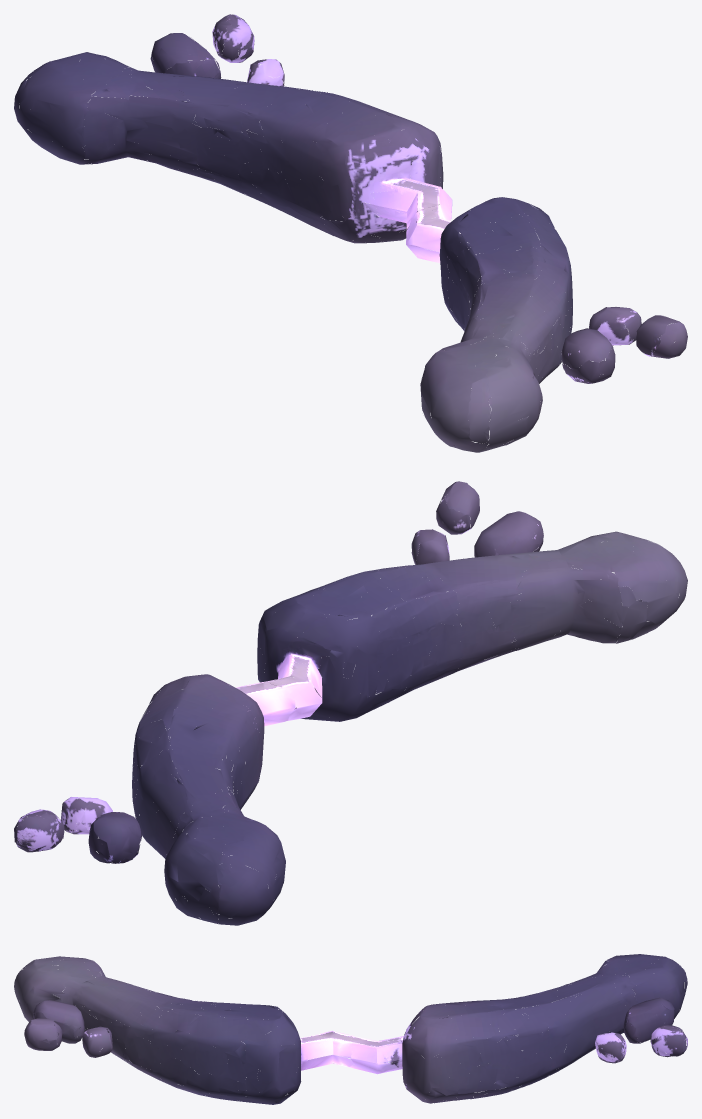
The model's file is Arm_rift_bow-UhdVYilX.glb.
3 views of the same model, one above another, from view 1: azimuth 30°, elevation 25°; view 2: azimuth 150°, elevation 25°; view 3: azimuth 270°, elevation 25° (orthographic). The views are drawn at different scales.
Parts seen in each view (by area): view 1: Arm_rift_bow; view 2: Arm_rift_bow; view 3: Arm_rift_bow.
Boxes of the visible parts, x1,y1,x2,y2 form: Arm_rift_bow: [14, 14, 687, 452]; Arm_rift_bow: [14, 481, 687, 925]; Arm_rift_bow: [14, 954, 687, 1104].
Bounding box in the file's own units: 0.7183 × 0.2881 × 2.1.
Materials: 1 (1 with a texture image).
